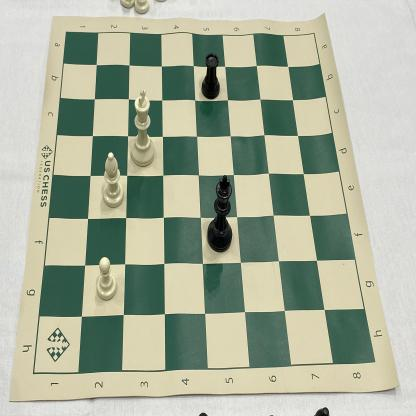black-king: (205, 172, 235, 255)
black-rook: (200, 52, 221, 102)
white-bishop: (100, 150, 125, 208)
white-king: (130, 85, 157, 169)
white-pawn: (94, 254, 117, 303)
